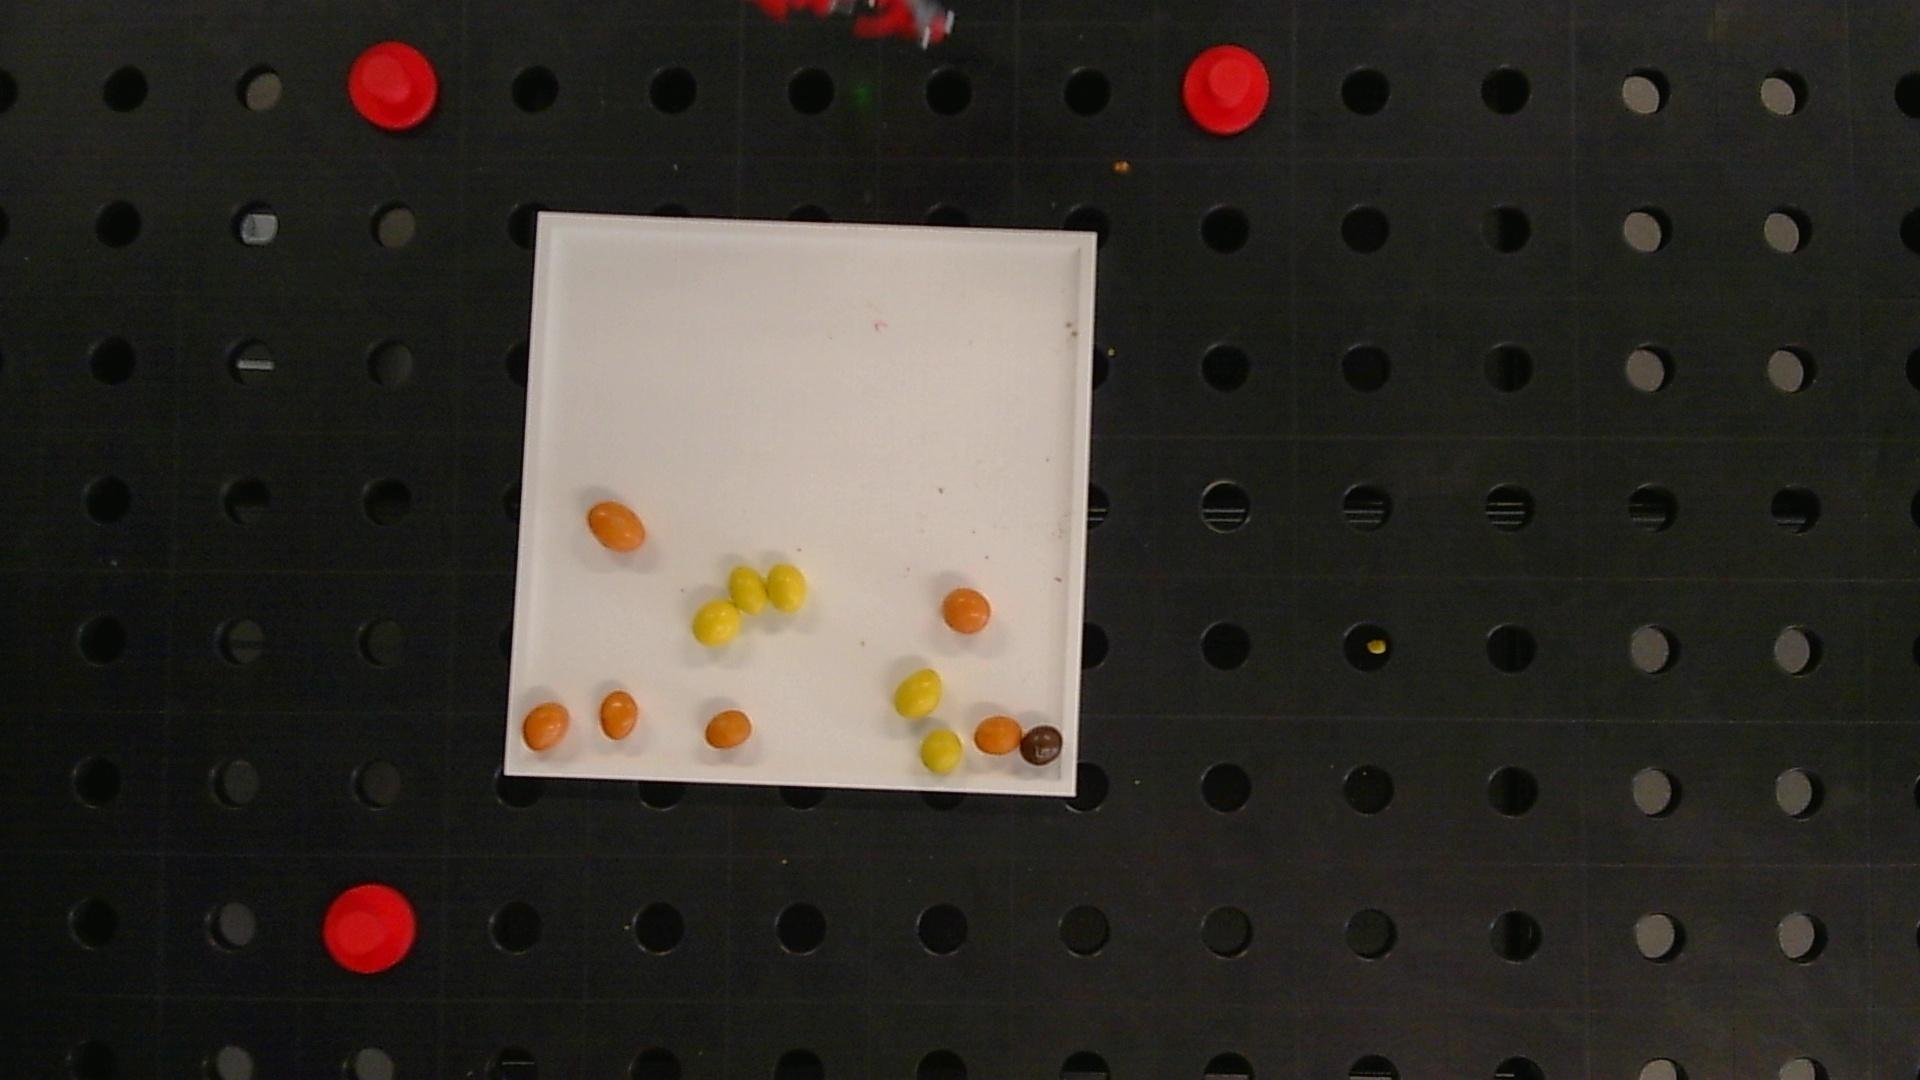brown: (1018, 724, 1063, 765)
orange: (587, 501, 646, 551), (942, 587, 992, 633), (522, 703, 570, 750), (973, 715, 1022, 754), (600, 690, 638, 738), (705, 709, 752, 748)
yellow: (895, 669, 943, 719), (692, 600, 740, 645), (767, 563, 807, 612), (919, 731, 963, 774), (729, 567, 767, 615)
